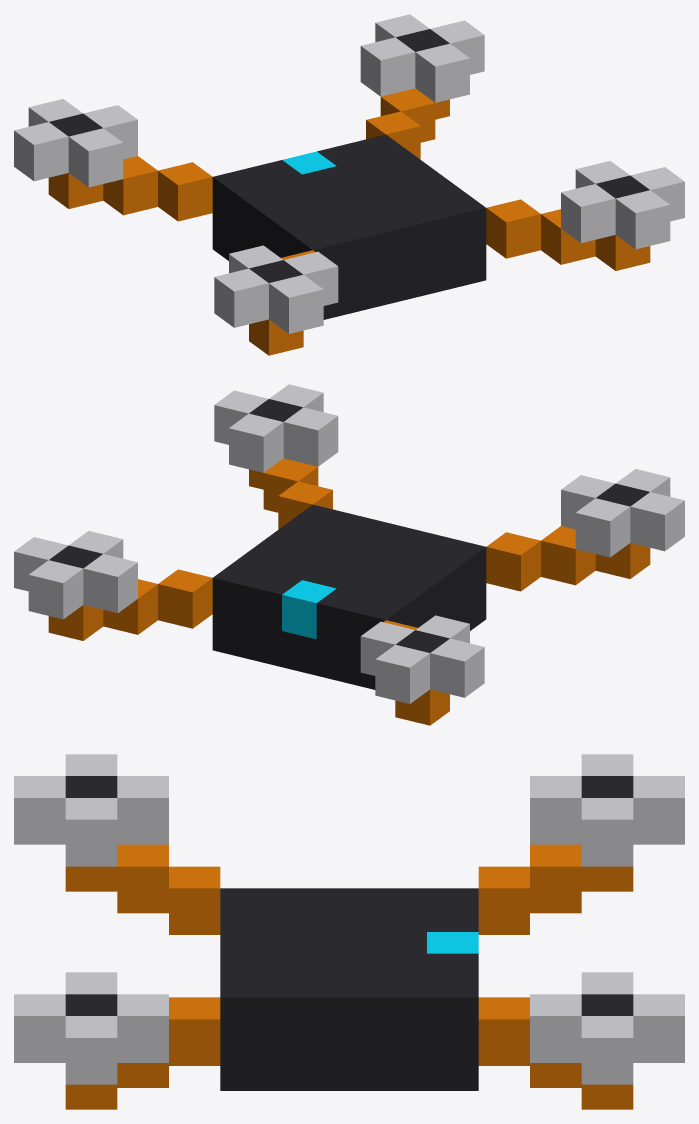
The model's file is drone.obj.
3 renders of one model, top to bottom at view 1: azimuth 30°, elevation 25°; view 2: azimuth 150°, elevation 25°; view 3: azimuth 270°, elevation 25°, orthographic. The views are drawn at different scales.
Size of the model in its own units: 1.3 by 0.3 by 1.3.
1 material, 1 textured.
